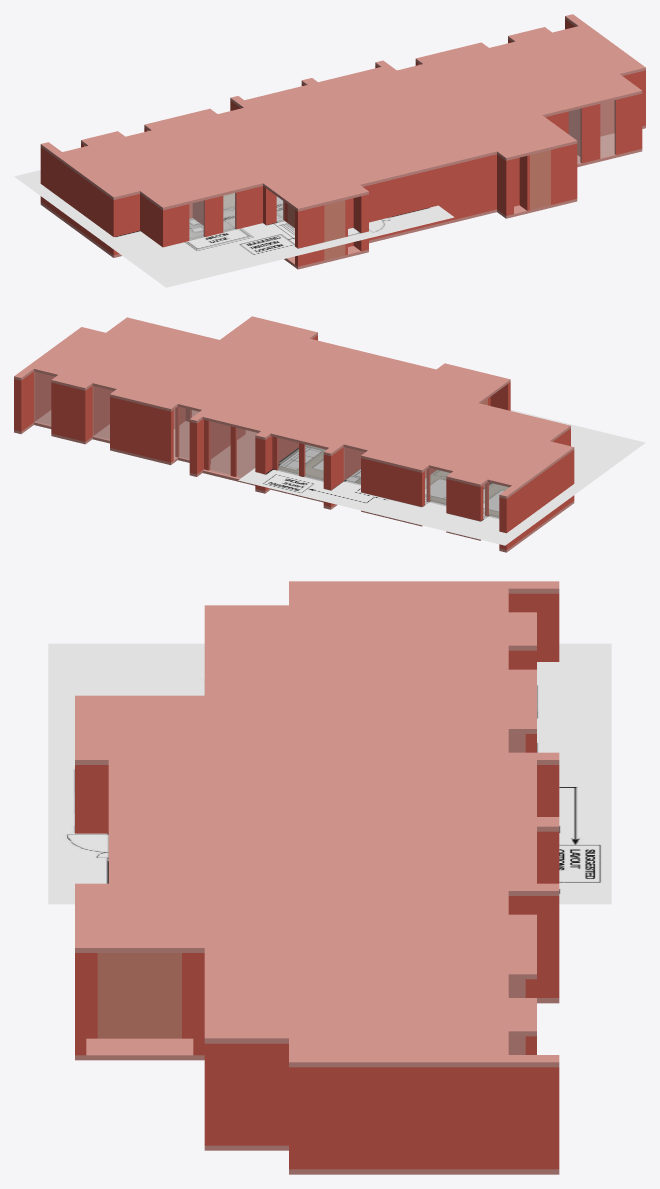
Rendered from buildings-withFloorPlates.glb.
The picture shows the model from 3 angles, top to bottom: view 1: azimuth 30°, elevation 25°; view 2: azimuth 150°, elevation 25°; view 3: azimuth 270°, elevation 25°; orthographic projection. The views are drawn at different scales.
Parts seen in each view (by area): view 1: floor, walls, ref-4room, windows, others; view 2: floor, walls, ref-4room, windows; view 3: floor, walls, ref-4room, others, windows.
Part boxes in pixels (bbox=[...]): floor: bbox=[40, 14, 645, 269]; walls: bbox=[40, 19, 645, 266]; ref-4room: bbox=[14, 170, 454, 287]; windows: bbox=[84, 64, 615, 240]; others: bbox=[287, 150, 550, 260]; floor: bbox=[14, 316, 574, 552]; walls: bbox=[14, 335, 574, 549]; ref-4room: bbox=[238, 410, 645, 545]; windows: bbox=[34, 371, 508, 518]; floor: bbox=[75, 581, 559, 1174]; walls: bbox=[75, 593, 559, 1169]; ref-4room: bbox=[48, 643, 611, 904]; others: bbox=[97, 953, 181, 1038]; windows: bbox=[509, 734, 525, 1054].
Size of the model in its own units: 2.07 by 0.22 by 1.
5 materials, 1 textured.
